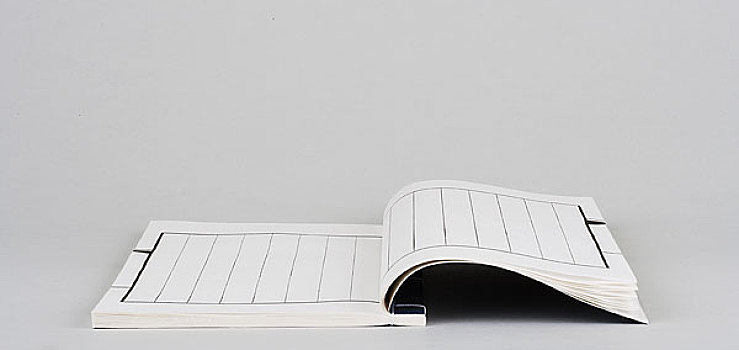book: (78, 176, 650, 336)
